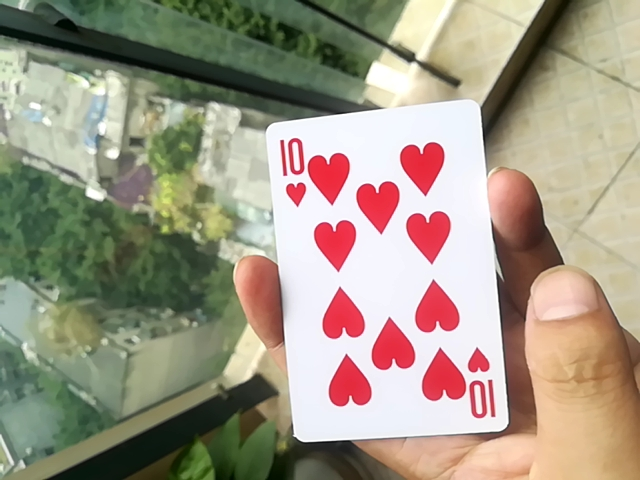hx 10: (267, 95, 506, 450)
